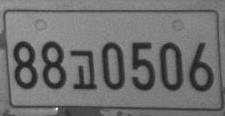0: (158, 41, 184, 91), (101, 41, 125, 90)
5: (130, 41, 156, 91)
6: (188, 41, 214, 92)
8: (12, 40, 39, 89), (40, 40, 67, 89)
고: (69, 50, 97, 90)
